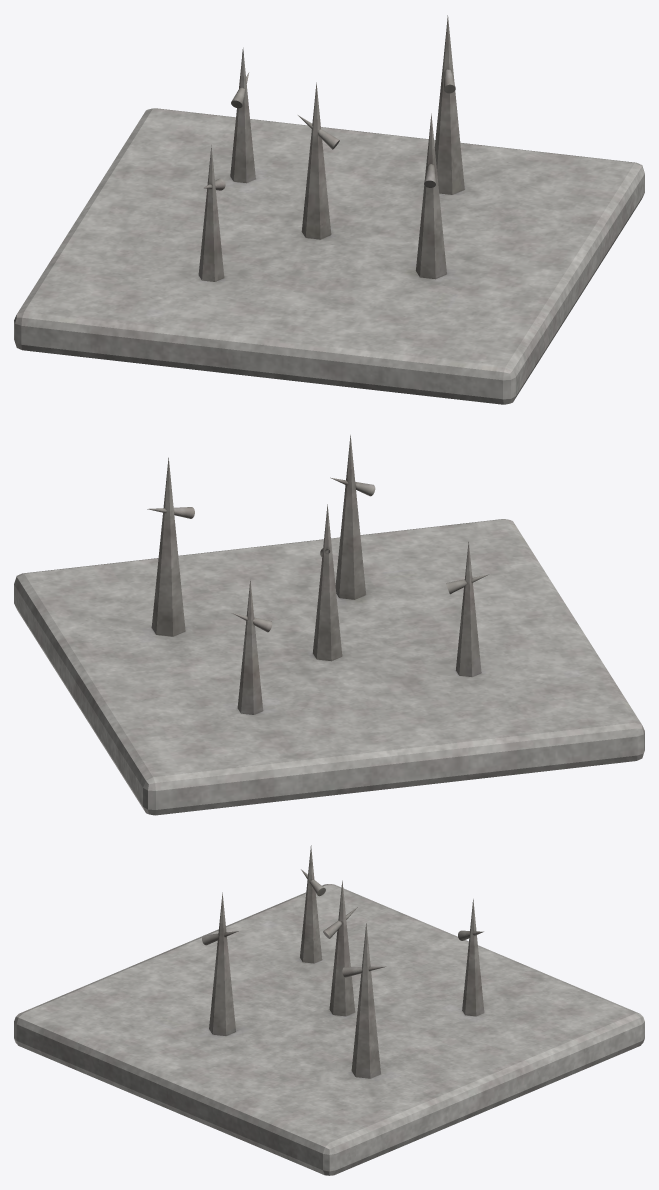
File: center_forest.glb
3 renders of one model, top to bottom at view 1: azimuth 30°, elevation 25°; view 2: azimuth 150°, elevation 25°; view 3: azimuth 270°, elevation 25°, orthographic. The views are drawn at different scales.
Visible parts, largest first — view 1: dilek; view 2: dilek; view 3: dilek.
Part boxes in pixels (box(x1,y1,x2,y2)): dilek: box(14, 15, 644, 404); dilek: box(14, 435, 644, 815); dilek: box(14, 845, 644, 1175).
Size of the model in its own units: 2.42 by 0.7787 by 2.42.
1 material, 1 textured.
